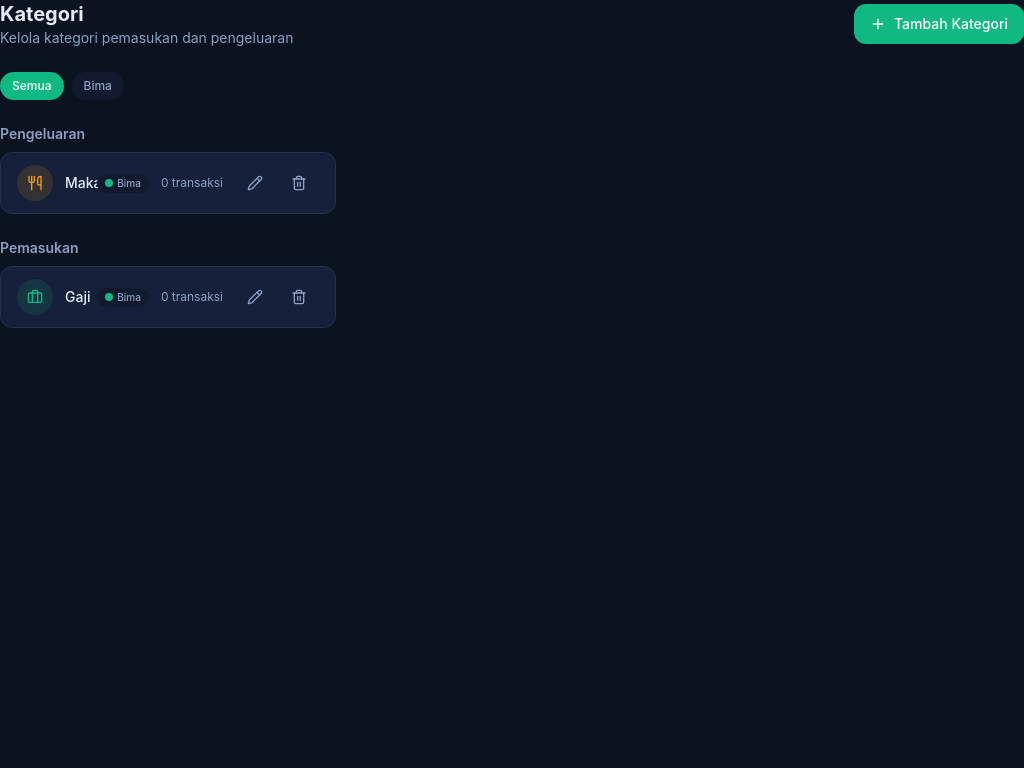
it: CategoriesPage › updates a category through the form
Expected: the text "Makanan" is shown, [65,173,85,193]
Step 1. Click the button named "Ubah" in the row of "Makanan" → [255, 183], box [235,169,275,197]
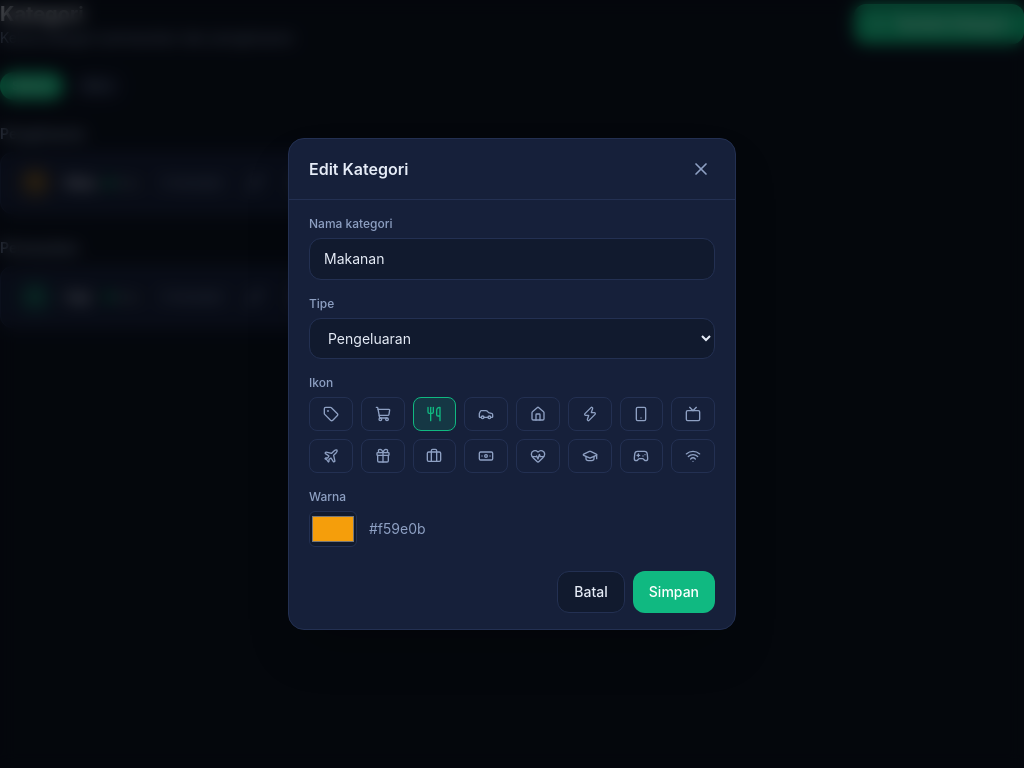
Step 2. Replace the text in the field labelled "Nama kategori" with "Makan Siang" → [512, 259], box [309,238,715,280]
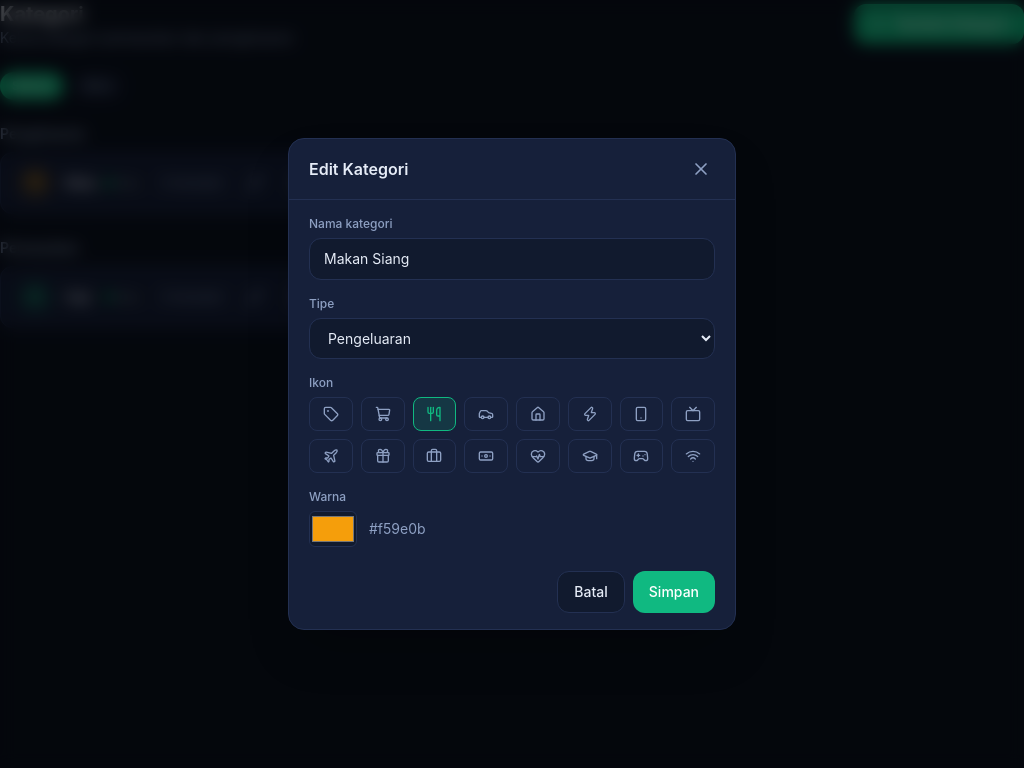
Step 3. Submit the form, box [309,216,715,613]
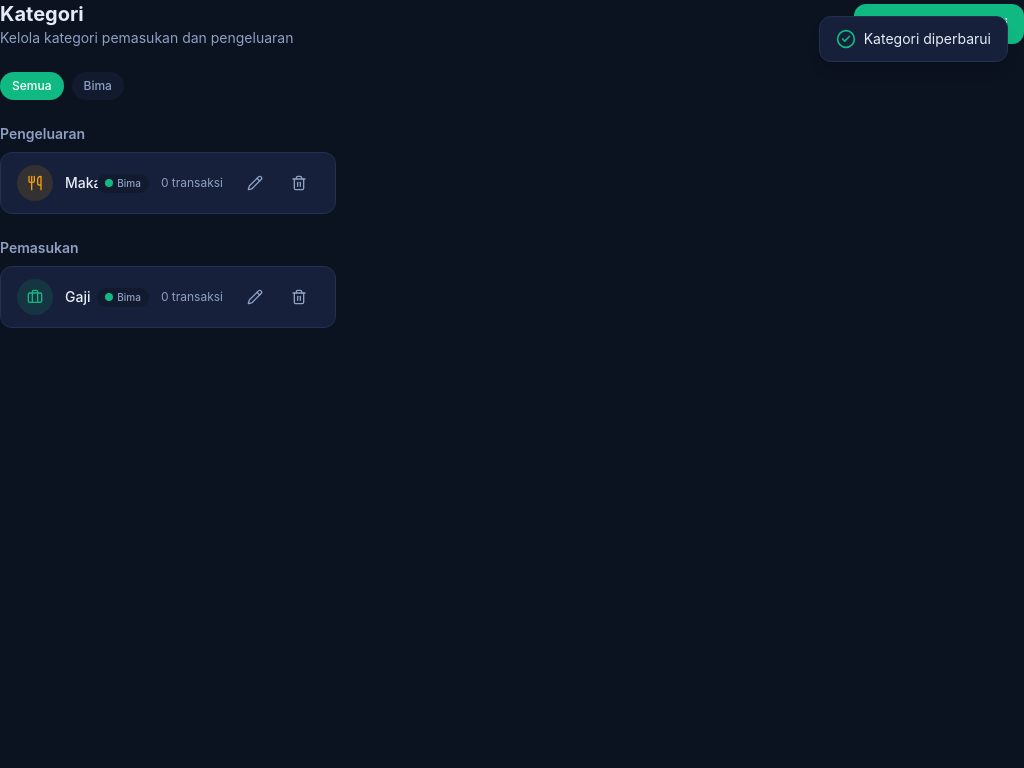
Now the text "Kategori diperbarui" is shown, box [864,29,991,49]
